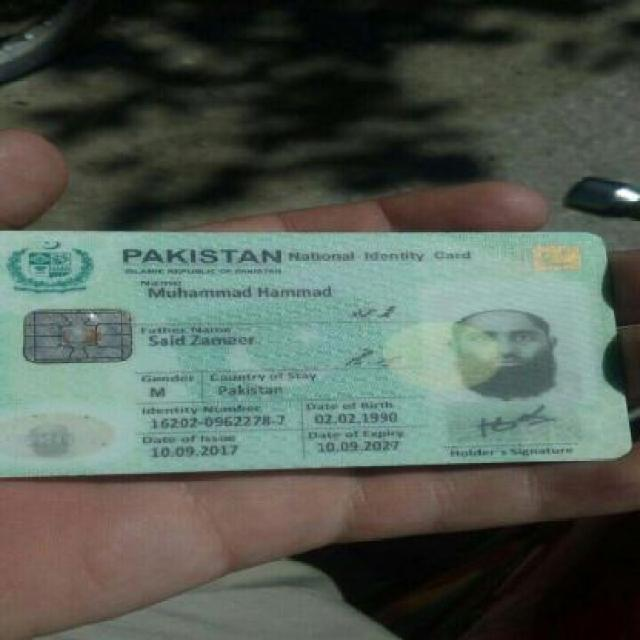Front: (10, 225, 632, 468)
